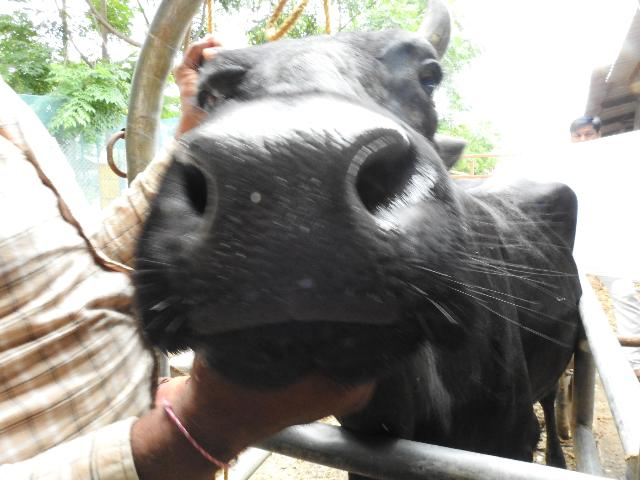Muzzle: (208, 122, 362, 306)
